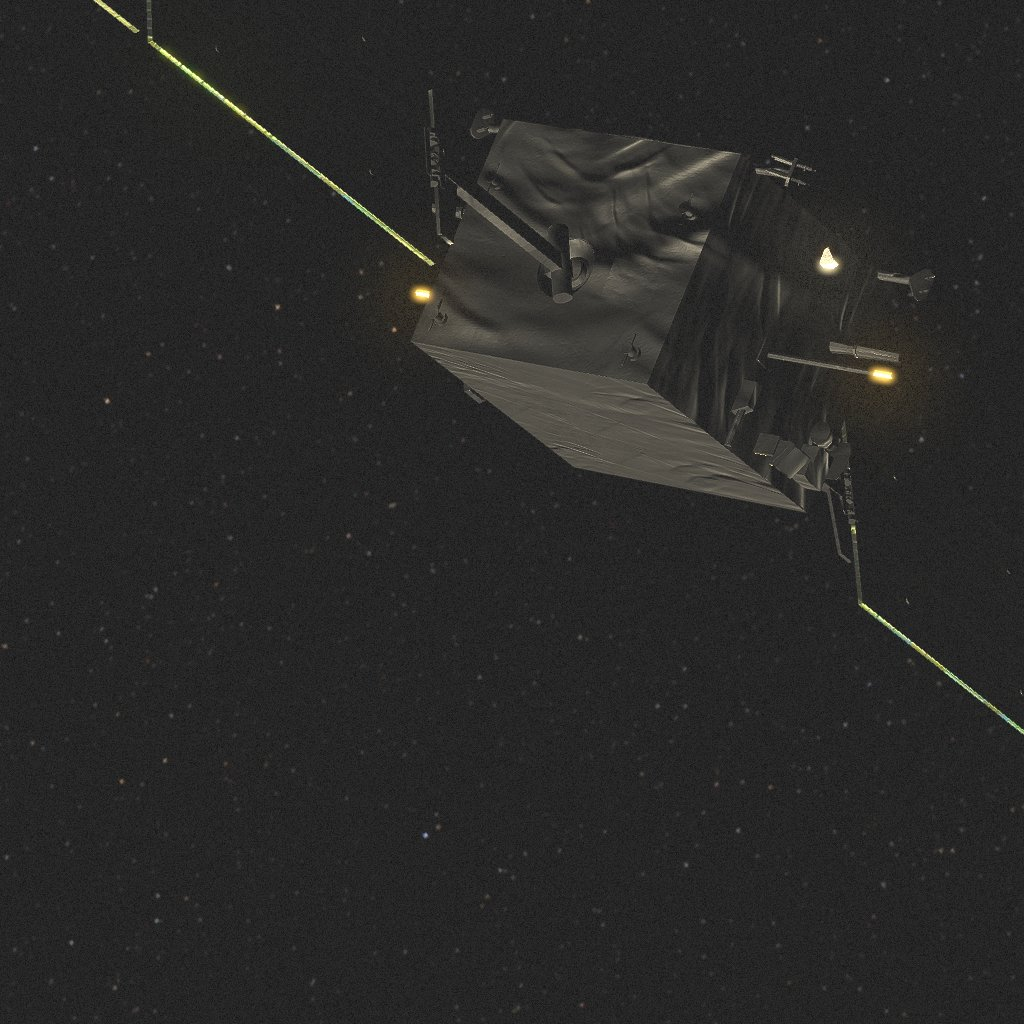smart_1: (94, 0, 1024, 734)
